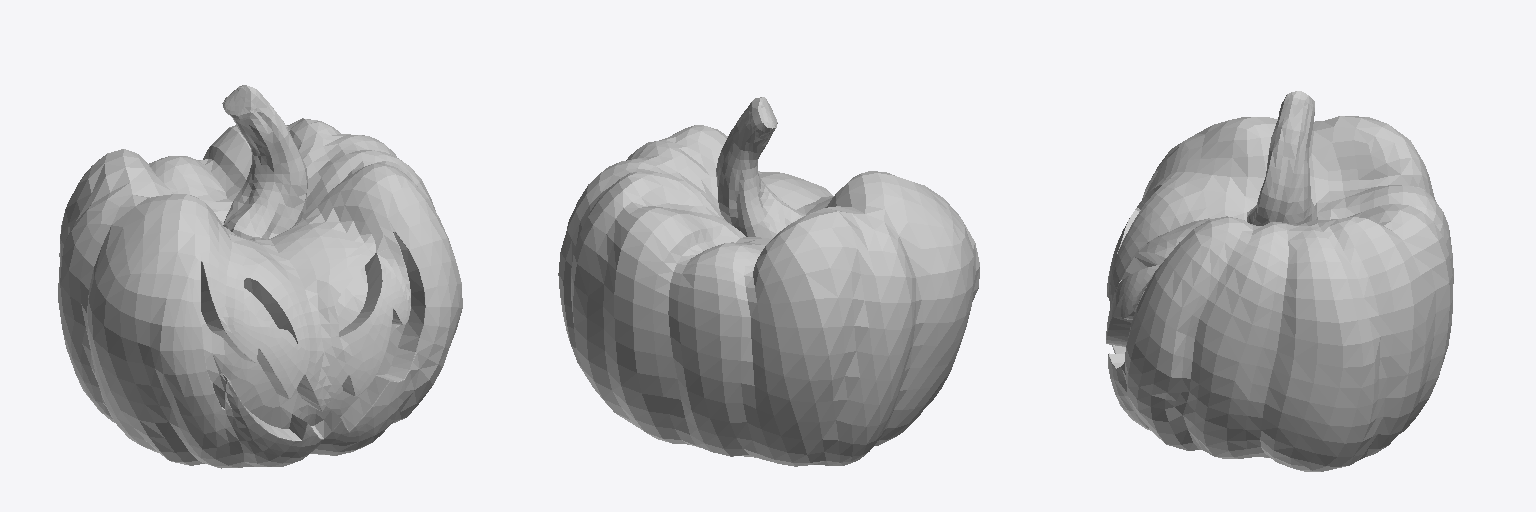
Rendered from Pumpkin.obj.
The picture shows the model from 3 angles: view 1: azimuth 30°, elevation 25°; view 2: azimuth 150°, elevation 25°; view 3: azimuth 270°, elevation 25°; orthographic projection.
Visible parts, largest first — view 1: node_id107; view 2: node_id107; view 3: node_id107.
Boxes of the visible parts, x1,y1,x2,y2 form: node_id107: [58, 85, 462, 468]; node_id107: [558, 97, 979, 466]; node_id107: [1106, 91, 1453, 471].
Size of the model in its own units: 7.91 by 7.11 by 6.81.